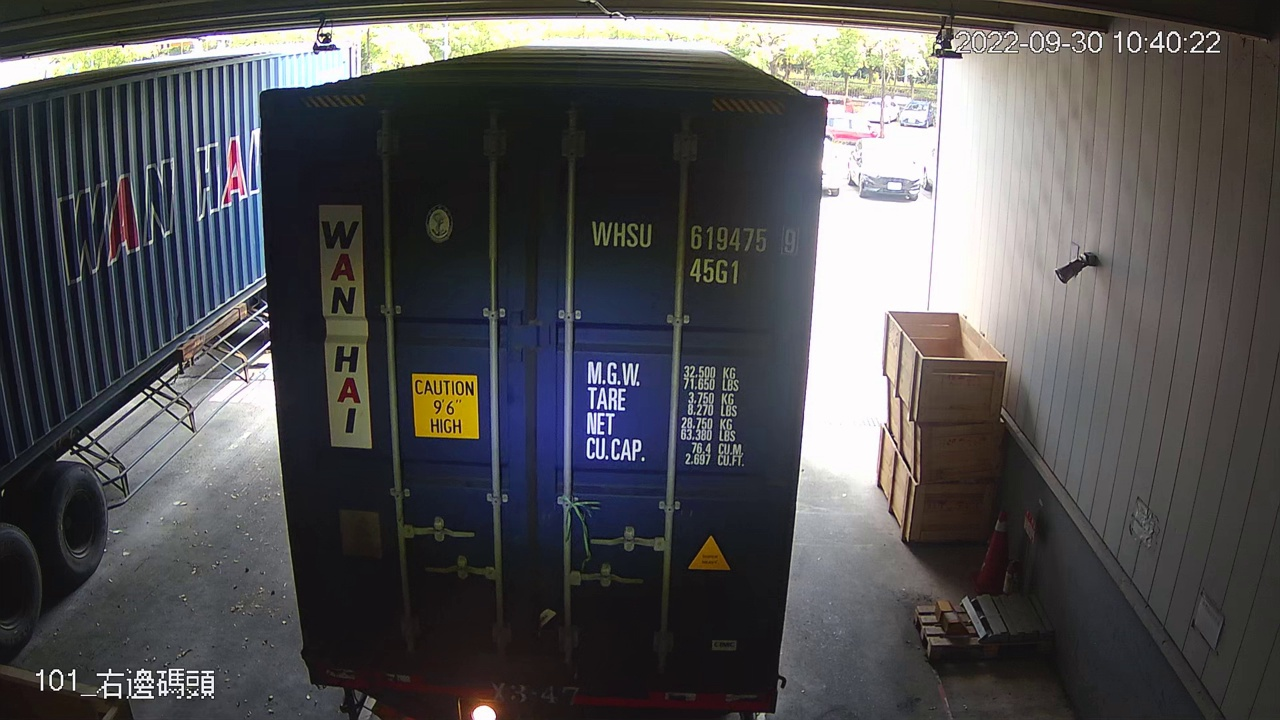container: (586, 216, 802, 289)
